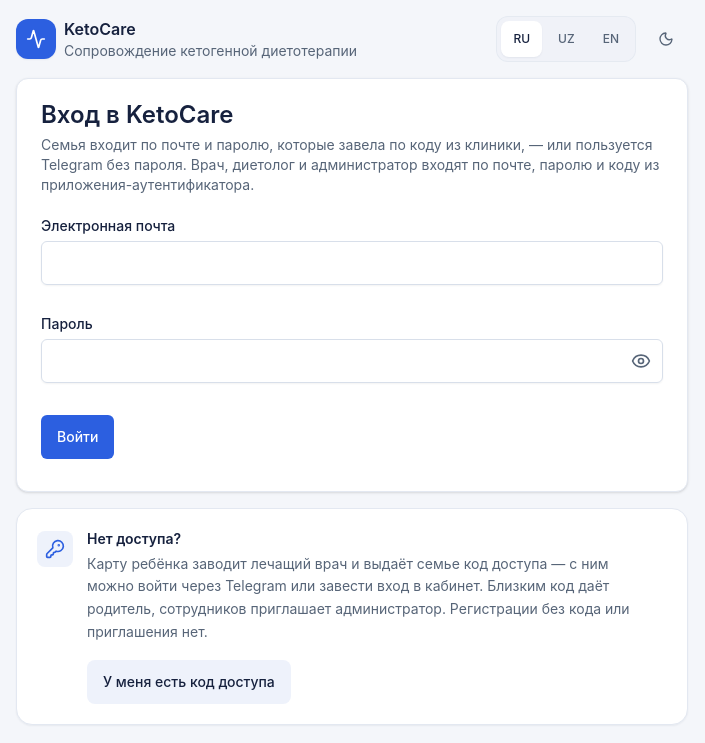
Test: вход со вторым фактором › сломанный фактор просит резервный код и не предлагает код из приложения
The image size is (705, 743).
In the field labelled "Электронная почта": {"x": 352, "y": 262} 41,240 -> 663,284, type "doctor@example.com"
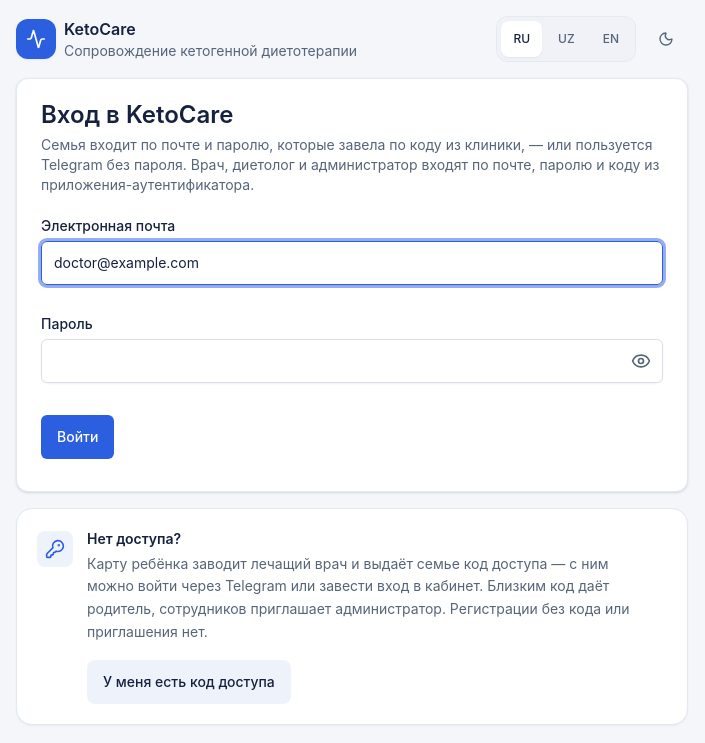
In the password field labelled "Пароль": {"x": 352, "y": 360} 41,338 -> 663,382, type "correct horse battery"
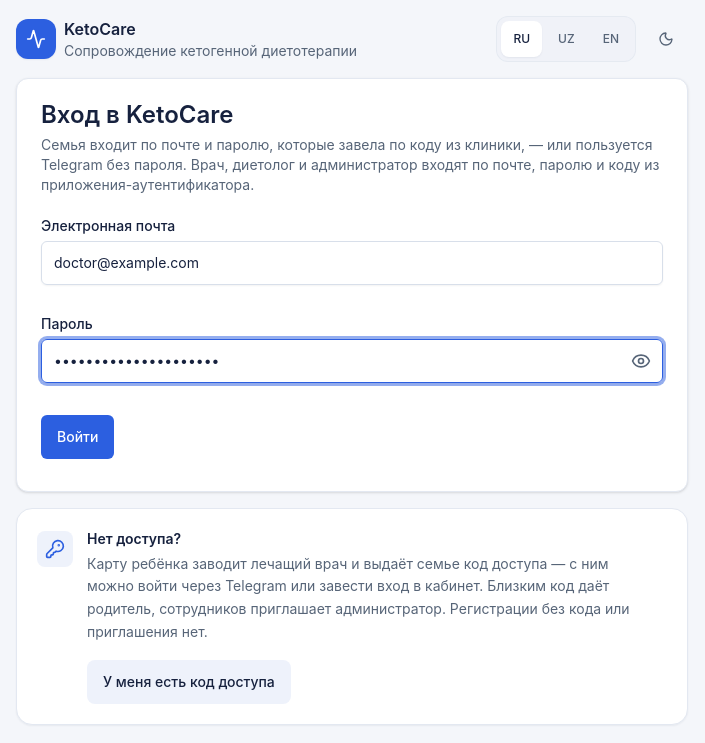
Click the button "Войти": {"x": 78, "y": 436} 41,414 -> 114,458
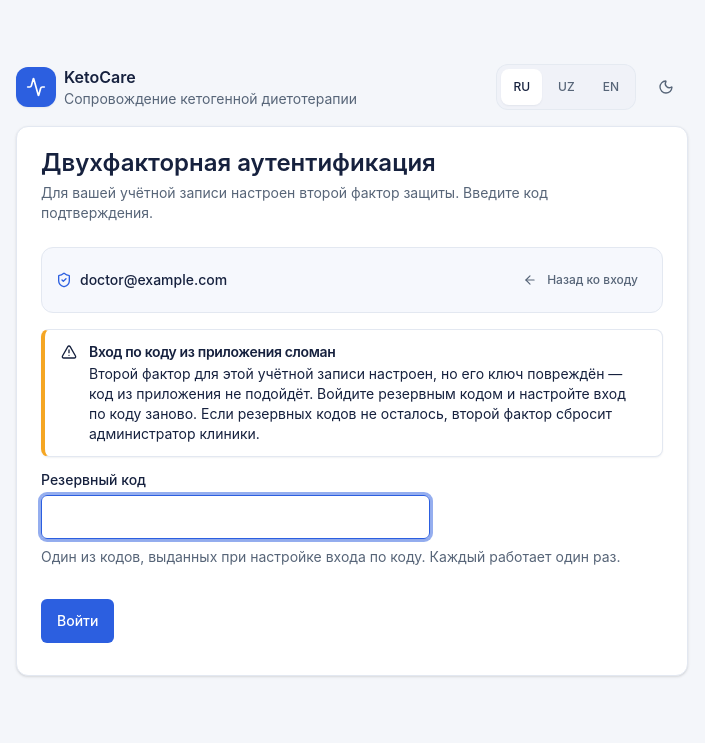
Now the field labelled "Резервный код" is shown, box 41,495 -> 430,539
Now the text "Вход по коду из приложения сломан" is shown, box 89,343 -> 335,360
Now the text "сбросит администратор клиники" is shown, box 89,365 -> 626,442
